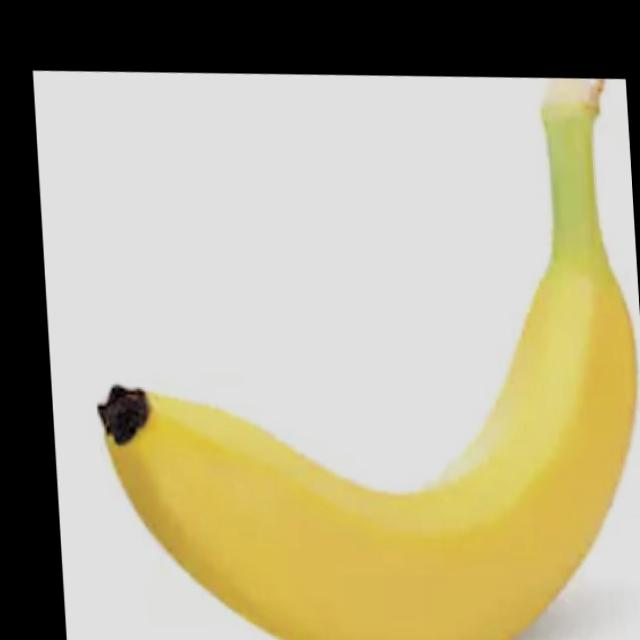Banana: (75, 41, 640, 640)
